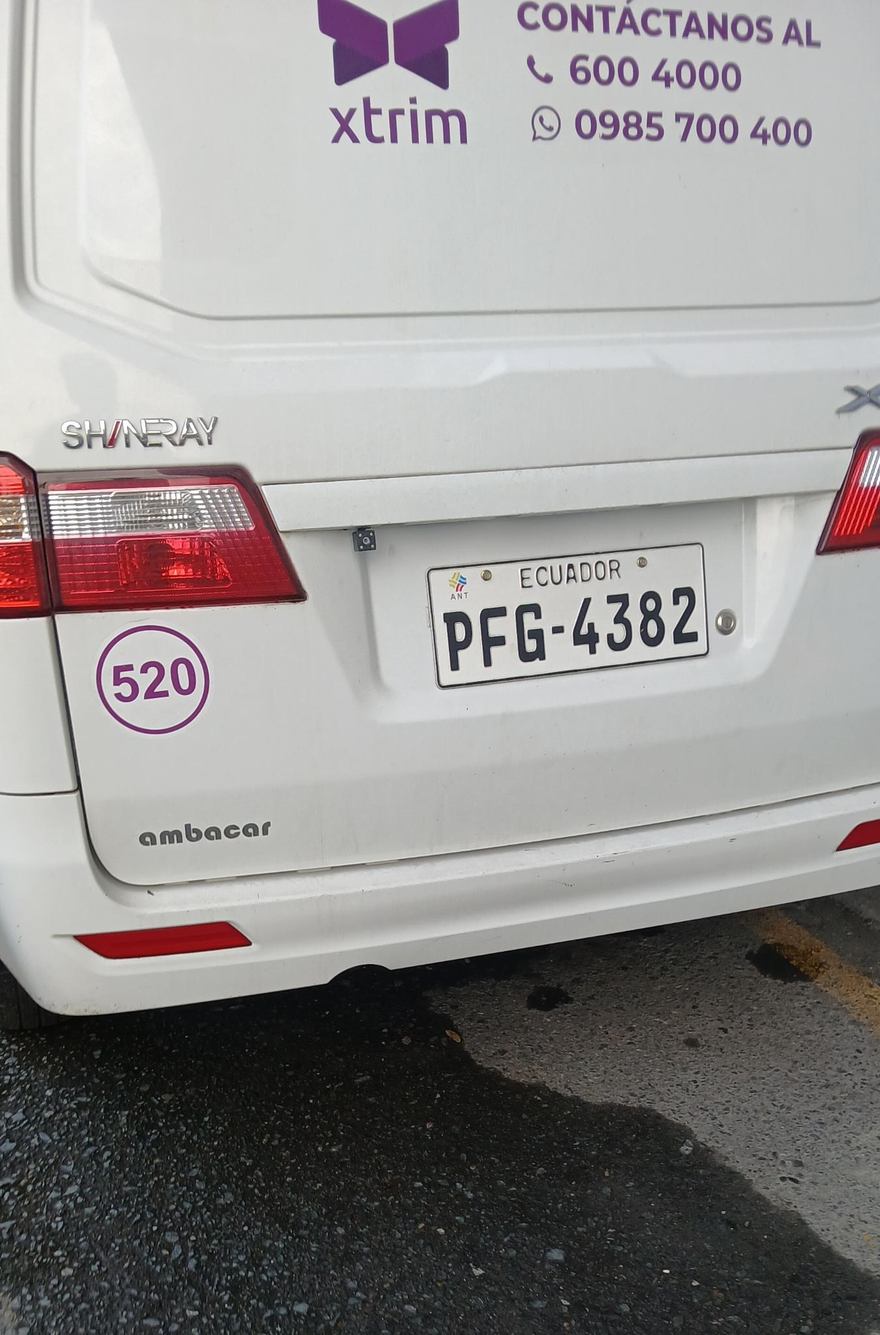license_plate: (426, 543, 710, 691)
